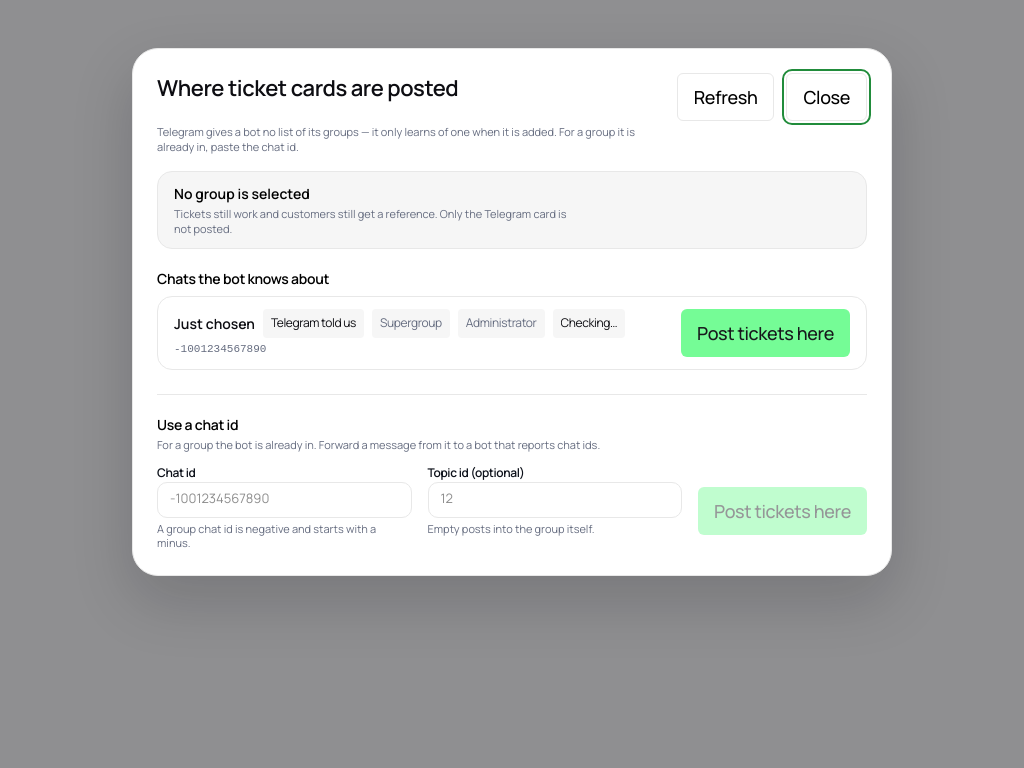
Test: SupportGroupDialog — selecting is honest about being asynchronous › moves a freshly selected chat to checking and never claims it works
Click the button with aria-label "post ticket cards to" at (766, 333), box x1=681 y1=309 x2=850 y2=357
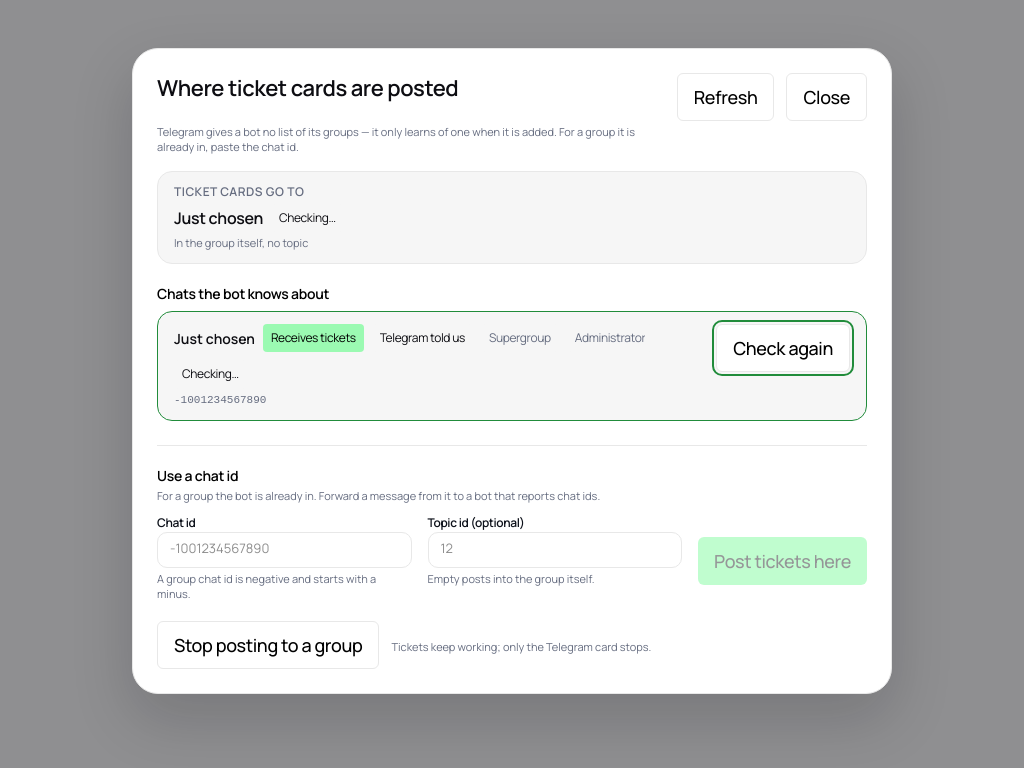
expect the text "Receives tickets" is shown: met, box x1=271 y1=330 x2=356 y2=346
expect the text "Checking…" below "Ticket cards go to" is shown: met, box x1=279 y1=209 x2=336 y2=226
